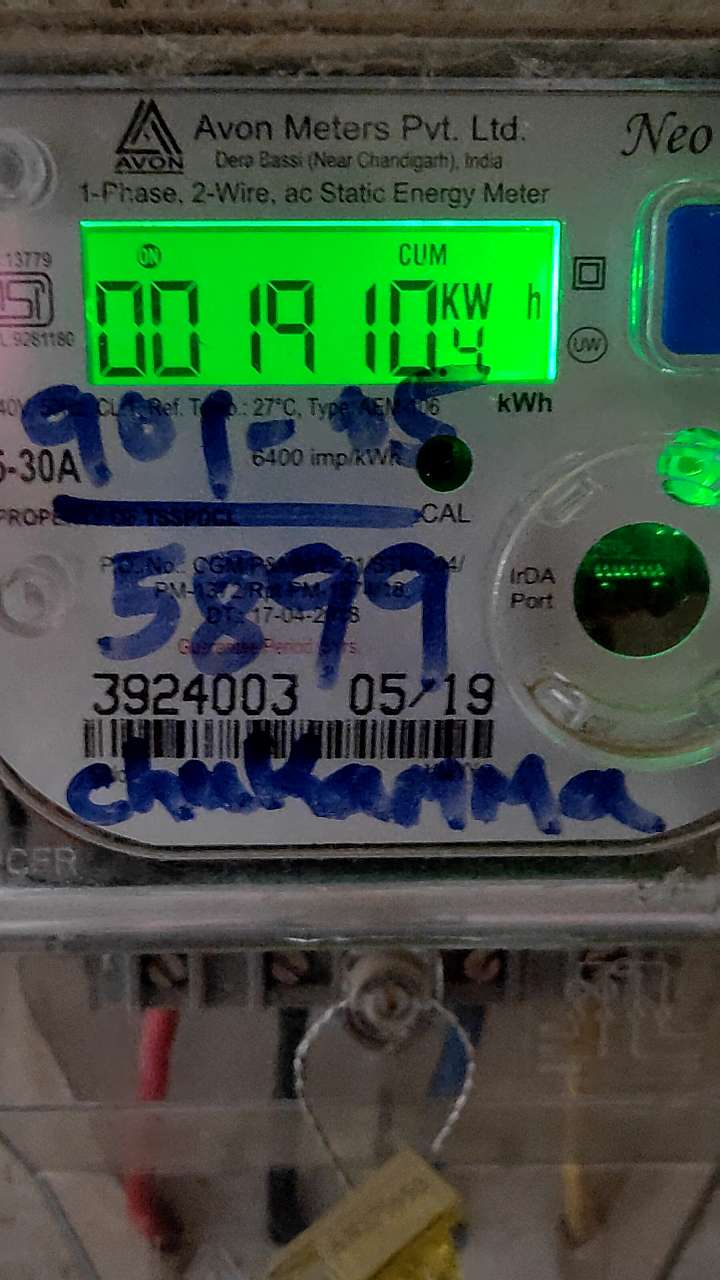meter_serial_number: (84, 667, 307, 722)
